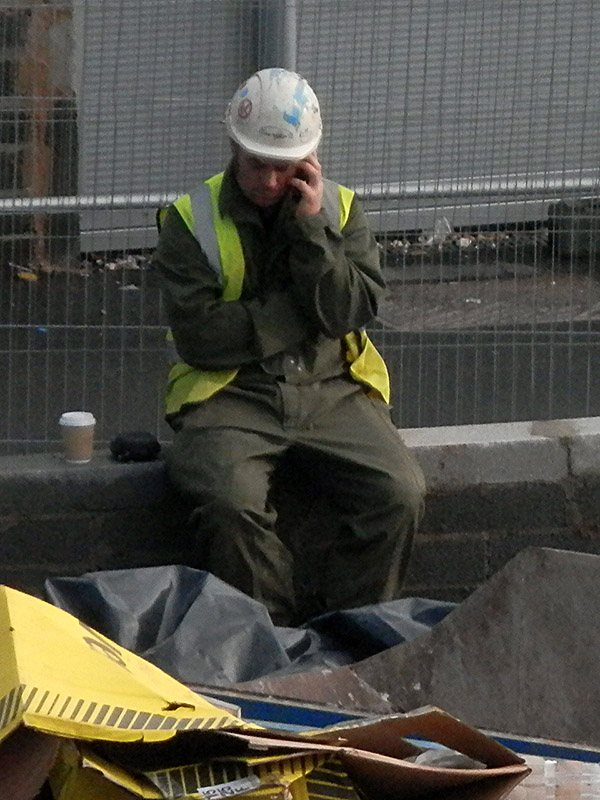Hard Hat: (220, 66, 329, 157)
High Viz: (166, 186, 241, 409), (323, 174, 368, 370)
